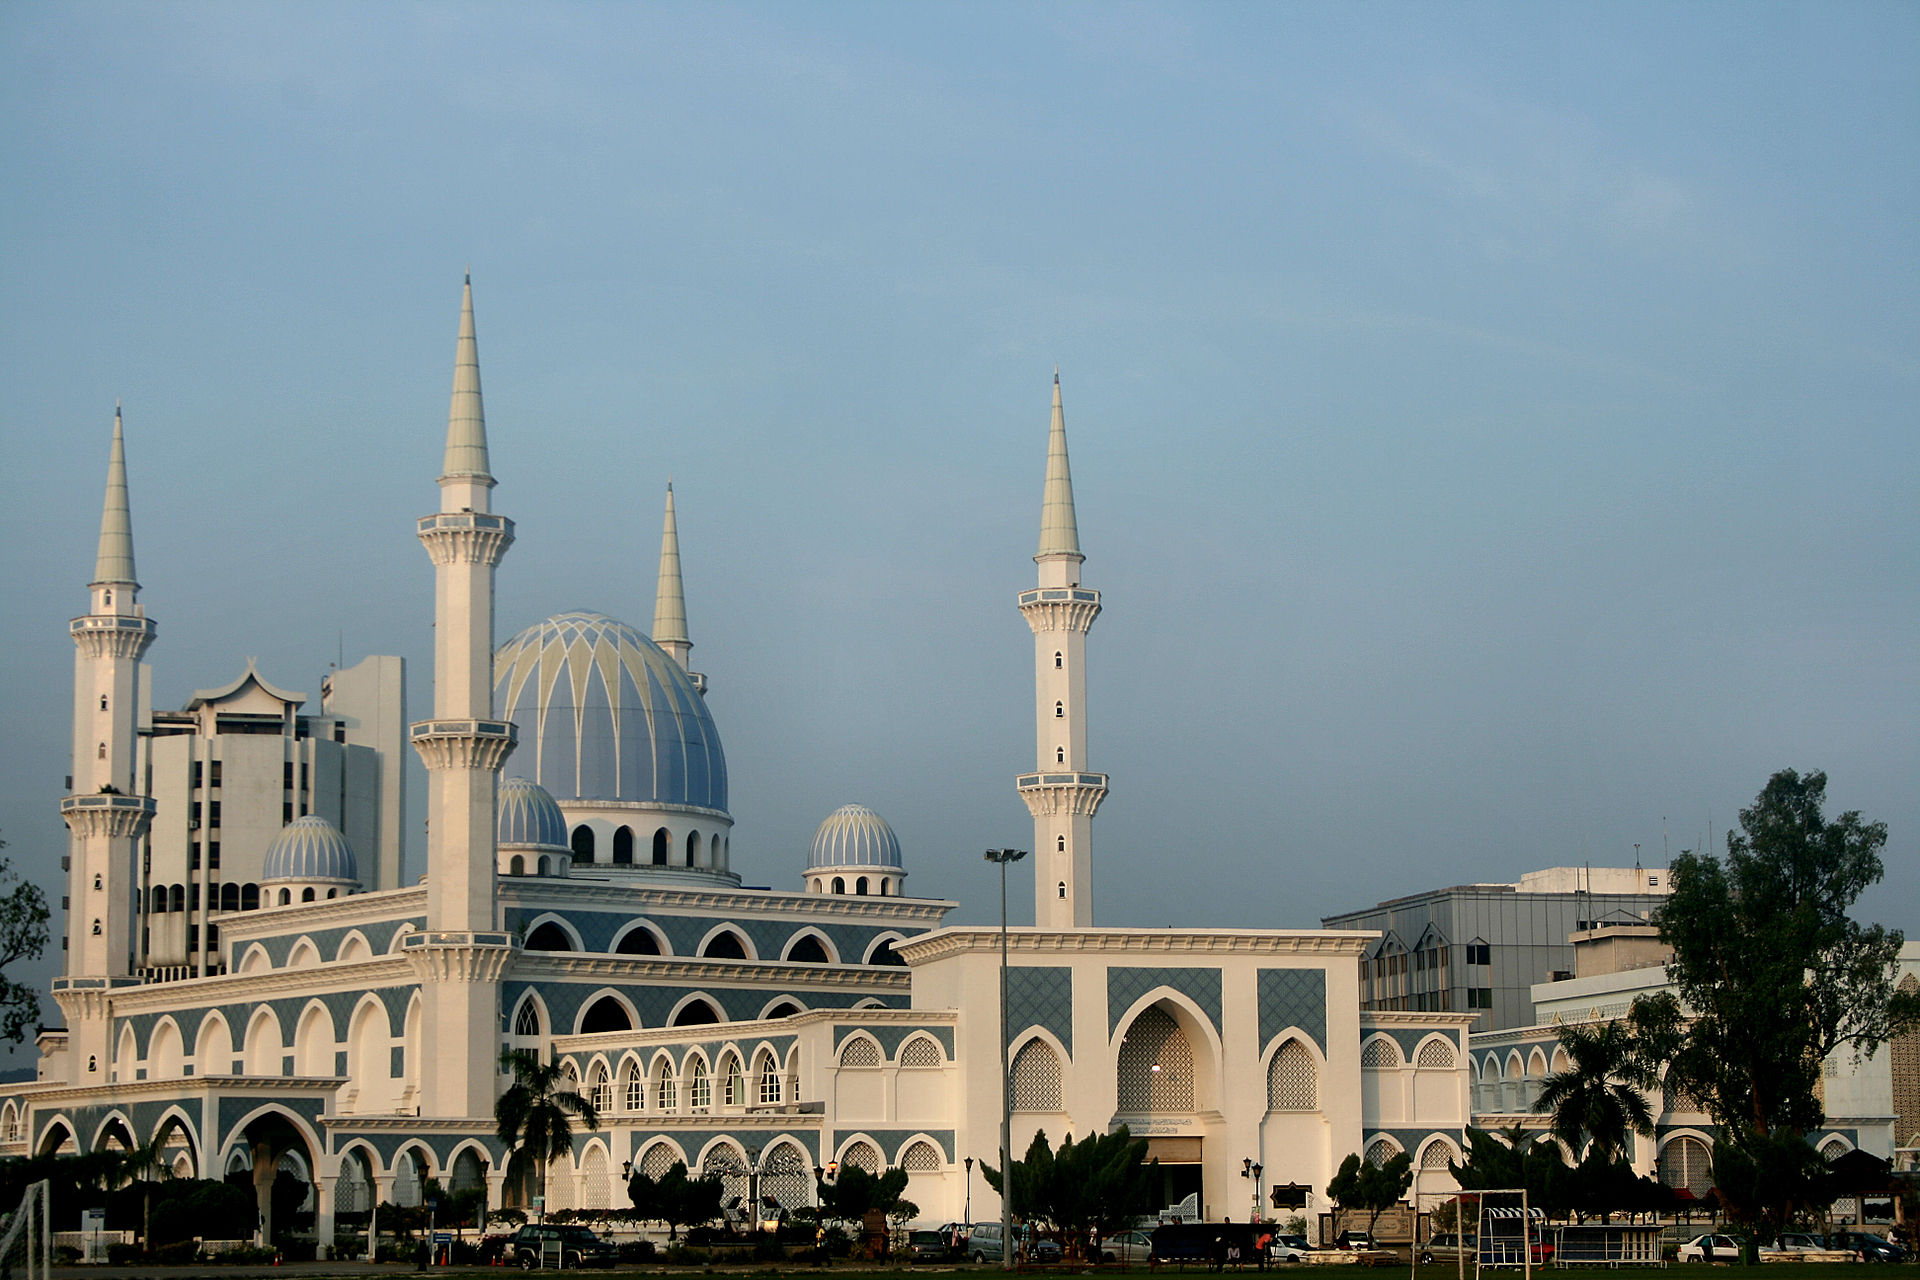Mosque: (56, 290, 1679, 1114)
